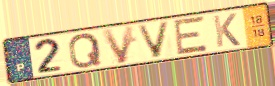2: (34, 37, 68, 76)
E: (173, 15, 210, 57)
K: (211, 12, 242, 49)
Q: (67, 31, 104, 70)
V: (100, 24, 137, 66), (135, 20, 172, 59)
